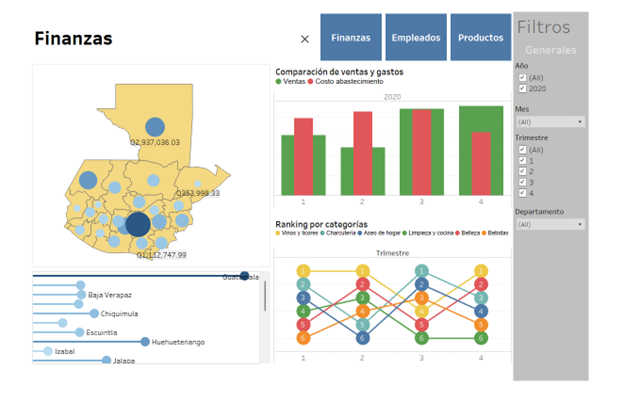

The dashboard page shown, as its layout file describes it:
{"tool":"tableau","page":{"name":"Finanzas","canvas":[1200,800],"ordinal":1},"visuals":[{"type":"text","box":[8,8,611,108]},{"type":"dashboard-object","box":[619,8,138,108]},{"type":"dashboard-object","box":[757,8,138,108]},{"type":"dashboard-object","box":[895,8,137,108]},{"type":"text","box":[1032,8,160,60]},{"type":"dashboard-object","box":[578,54,24,24]},{"type":"text","box":[1032,68,160,40]},{"type":"filter","title":"Finanzas categorias ranking","param":"[msolap.13166ry1yr6arp182d6ij1ec3jj6].[Dim Fechas].[Año]","box":[1032,108,160,92]},{"type":"worksheet","title":"Finanzas mapa","mark":"Multipolygon","box":[8,116,512,439]},{"type":"text","box":[520,116,512,58]},{"type":"worksheet","title":"Finanzas estado","mark":"Bar","rows":["Total","TotalGasto"],"cols":["Año","Trimestre"],"box":[520,174,512,254]},{"type":"filter","title":"Finanzas categorias ranking","param":"[msolap.13166ry1yr6arp182d6ij1ec3jj6].[Dim Fechas].[Mes]","box":[1032,200,160,61]},{"type":"filter","title":"Finanzas categorias ranking","param":"[msolap.13166ry1yr6arp182d6ij1ec3jj6].[Dim Fechas].[Trimestre]","box":[1032,261,160,157]},{"type":"filter","title":"Finanzas mapa","param":"[msolap.13166ry1yr6arp182d6ij1ec3jj6].[Dim Sucursales].[Departamento]","box":[1032,418,160,61]},{"type":"text","box":[520,428,512,78]},{"type":"worksheet","title":"Finanzas categorias ranking","mark":"Line","cols":["Trimestre"],"box":[520,506,512,254]},{"type":"worksheet","title":"Finanzas departamentos","mark":"Automatic","rows":["Departamento"],"cols":["Total","Total"],"box":[8,555,512,205]}]}

Visuals, with their boxes in screenshot pixels (x1, y1, x2, y2), scaled from the page's 1200x800 canvas onto the 624x417 screenshot:
text: [4,4,322,60]
dashboard-object: [322,4,394,60]
dashboard-object: [394,4,465,60]
dashboard-object: [465,4,537,60]
text: [537,4,620,35]
dashboard-object: [301,28,313,41]
text: [537,35,620,56]
"Finanzas categorias ranking" filter: [537,56,620,104]
"Finanzas mapa" worksheet (Multipolygon marks): [4,60,270,289]
text: [270,60,537,91]
"Finanzas estado" worksheet (Bar marks): [270,91,537,223]
"Finanzas categorias ranking" filter: [537,104,620,136]
"Finanzas categorias ranking" filter: [537,136,620,218]
"Finanzas mapa" filter: [537,218,620,250]
text: [270,223,537,264]
"Finanzas categorias ranking" worksheet (Line marks): [270,264,537,396]
"Finanzas departamentos" worksheet: [4,289,270,396]
